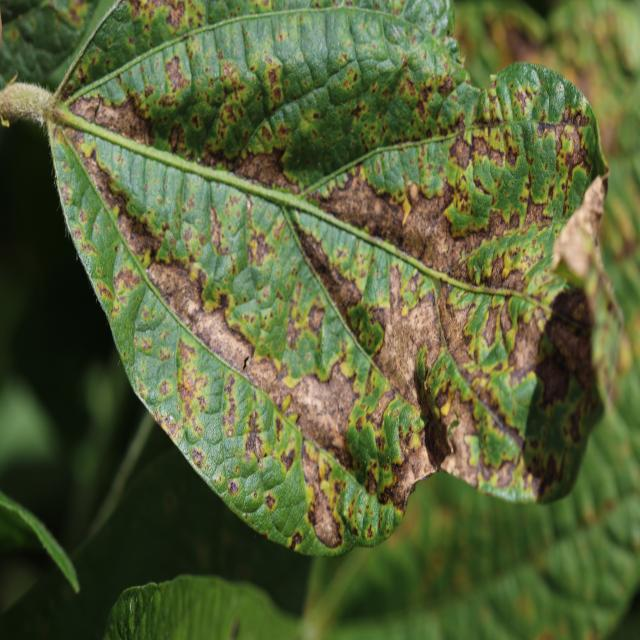Bacterial_Blight: (320, 170, 408, 250), (541, 285, 598, 389), (185, 294, 252, 380), (302, 360, 351, 444), (380, 443, 432, 519), (437, 421, 495, 489), (44, 122, 73, 248), (84, 91, 151, 143), (596, 3, 640, 79), (240, 144, 296, 203), (438, 288, 481, 355), (602, 180, 640, 255), (432, 197, 470, 270), (506, 307, 545, 377), (117, 209, 164, 264), (558, 123, 593, 193), (307, 485, 343, 548), (347, 304, 384, 359), (503, 19, 546, 64), (479, 250, 513, 290), (244, 409, 265, 463), (249, 227, 276, 267), (359, 491, 380, 540), (523, 194, 554, 227), (164, 55, 189, 93), (450, 135, 474, 169), (164, 2, 188, 30), (513, 87, 535, 117), (51, 102, 75, 127), (180, 295, 202, 320), (365, 466, 380, 495), (95, 279, 114, 301), (281, 445, 296, 471), (59, 81, 75, 101), (437, 79, 453, 98), (217, 291, 231, 310), (191, 449, 205, 468), (290, 531, 303, 551), (573, 112, 590, 127), (268, 67, 280, 88), (281, 393, 293, 413), (93, 95, 102, 120), (264, 493, 276, 510), (228, 479, 239, 495), (246, 194, 253, 215), (424, 365, 432, 379), (253, 491, 258, 499), (243, 513, 248, 519)
Soybean: (44, 0, 604, 559)
